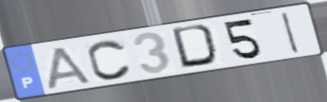3: (132, 30, 175, 77)
5: (221, 18, 264, 61)
A: (46, 45, 94, 91)
C: (86, 38, 135, 81)
D: (169, 23, 223, 70)
I: (279, 10, 301, 55)
